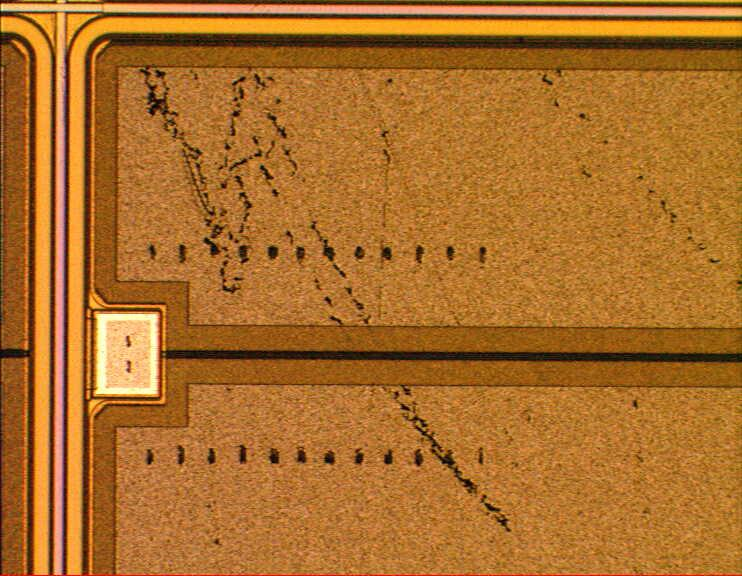SCRATCH: (131, 55, 742, 561)
